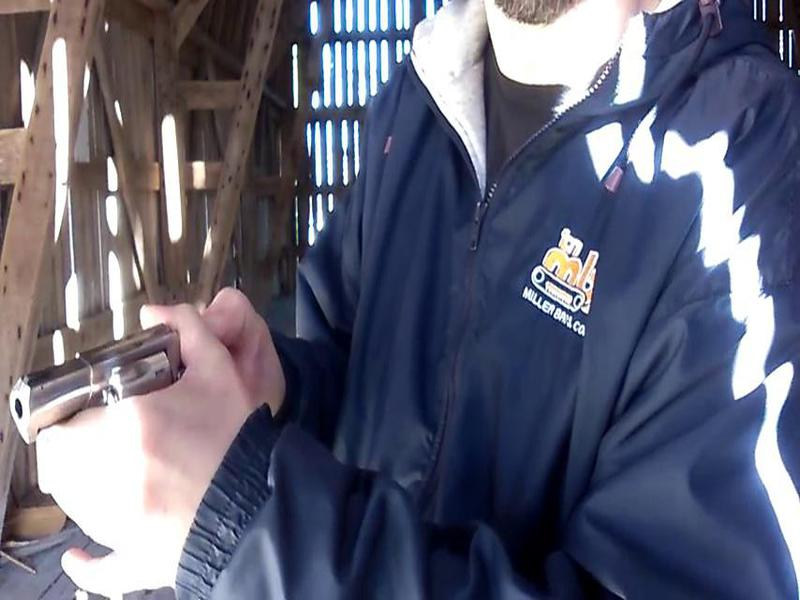Revolver: (15, 315, 195, 483)
